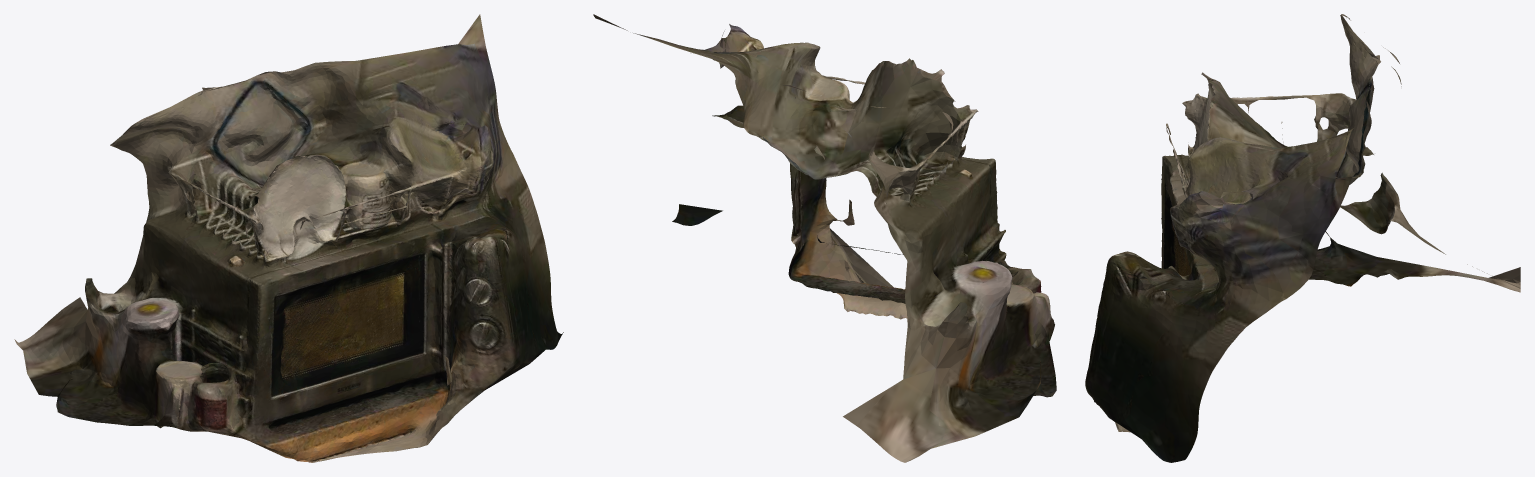
The picture shows the model from 3 angles, left to right: view 1: azimuth 30°, elevation 25°; view 2: azimuth 150°, elevation 25°; view 3: azimuth 270°, elevation 25°; orthographic projection. The views are drawn at different scales.
Bounding box in the file's own units: 2.55 × 1.77 × 2.02.
Materials: 1 (1 with a texture image).
